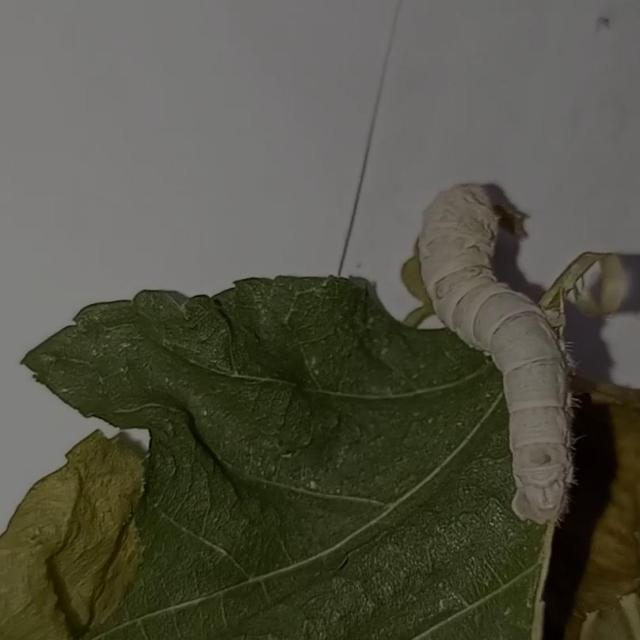Healthy: (406, 172, 597, 542)
